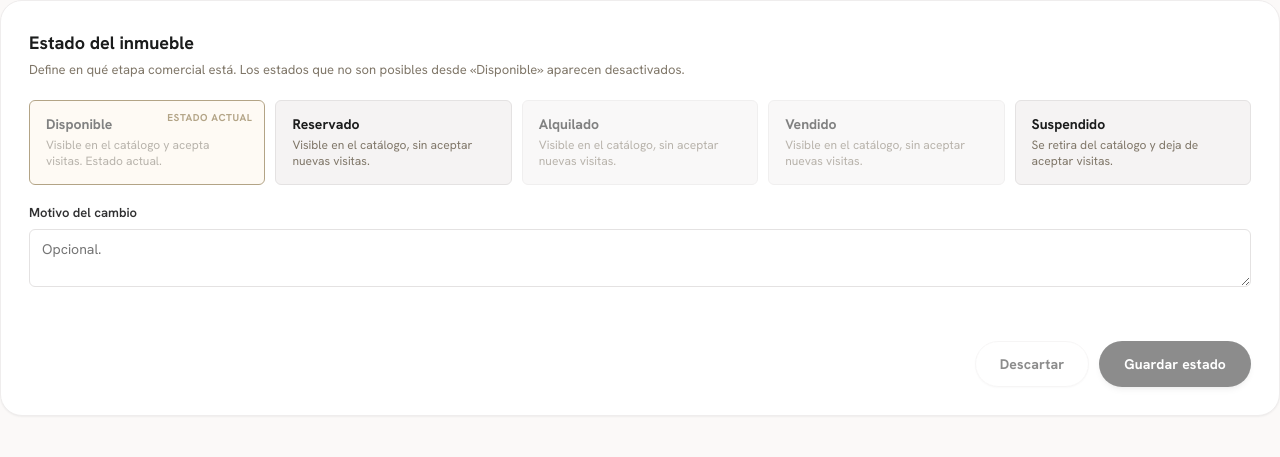
Test case: PropertyStatusSelector › Motivo del cambio › lo vuelve obligatorio para los estados auditables
Click the radio button labelled "Reservado" at (394, 142), box x1=275 y1=100 x2=512 y2=185
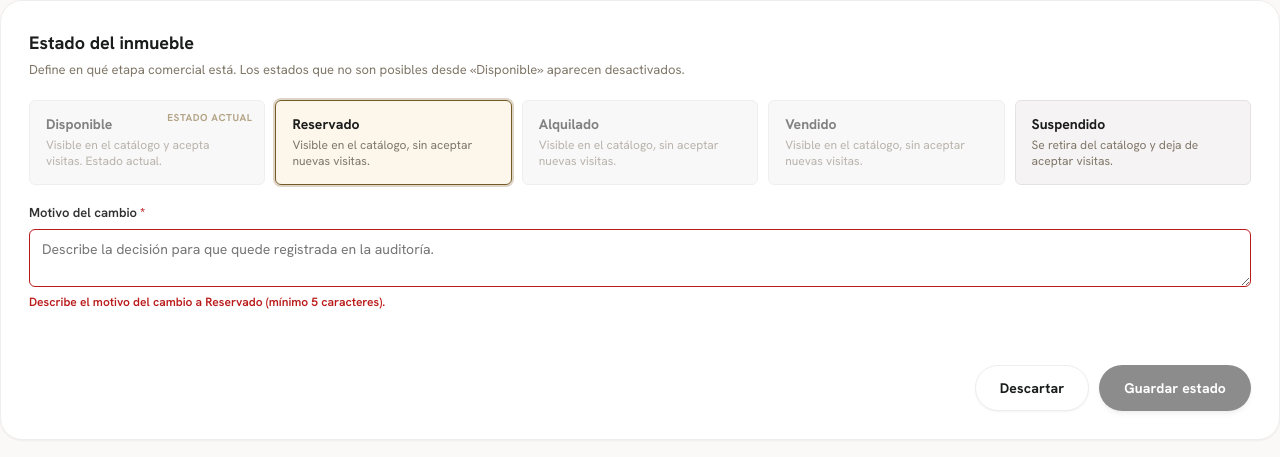
Expected: the button "Guardar estado" is disabled, x1=1099 y1=365 x2=1251 y2=411
Result: the text "Describe el motivo del cambio a Reservado (mínimo 5 caracteres)." is shown at x1=29 y1=294 x2=385 y2=310
